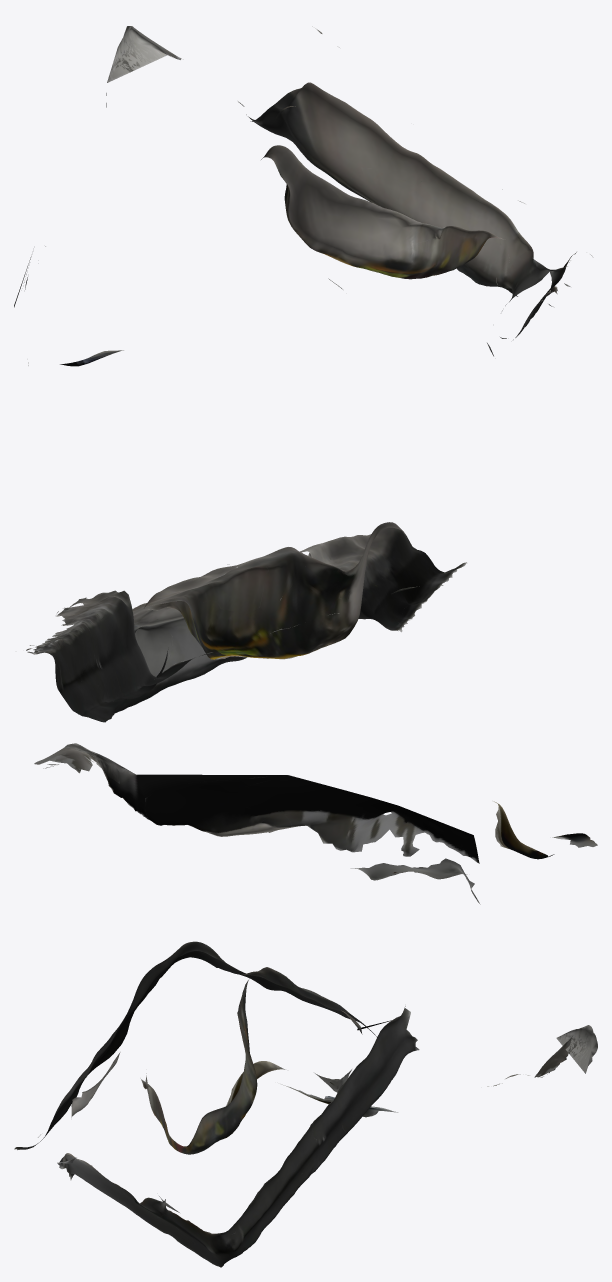
3 views of the same model, one above another, from view 1: azimuth 30°, elevation 25°; view 2: azimuth 150°, elevation 25°; view 3: azimuth 270°, elevation 25° (orthographic). The views are drawn at different scales.
Bounding box in the file's own units: 0.7859 × 0.431 × 0.9045.
Materials: 1 (1 with a texture image).
